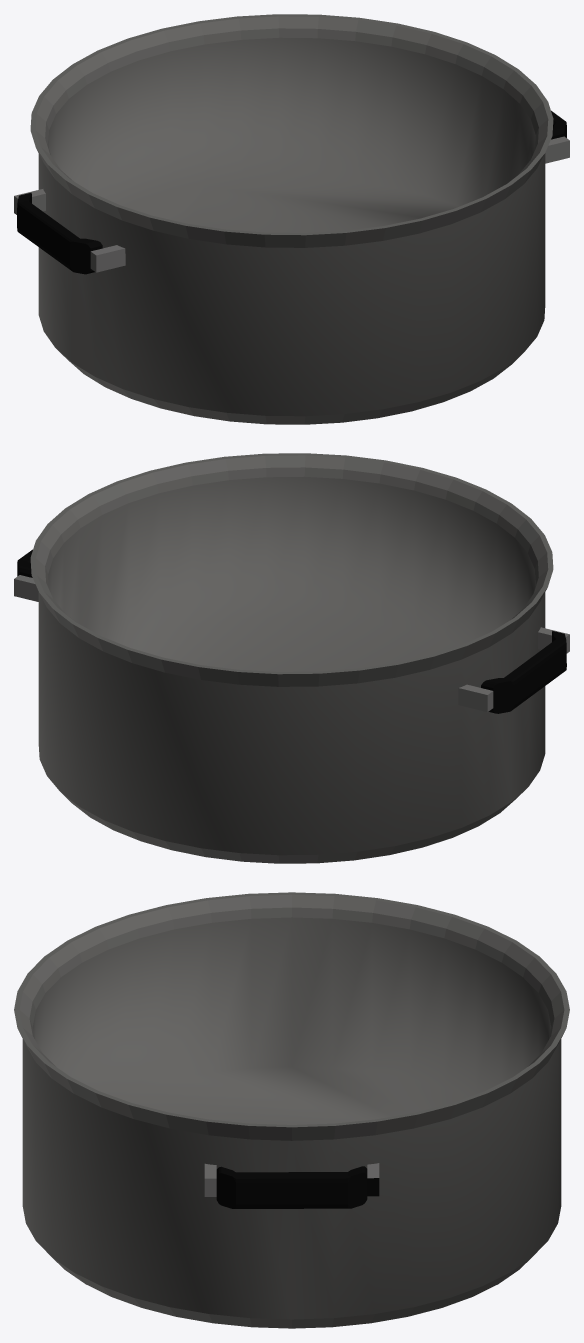
Rendered from _IGPOT.fbx.
3 views of the same model, one above another, from view 1: azimuth 30°, elevation 25°; view 2: azimuth 150°, elevation 25°; view 3: azimuth 270°, elevation 25° (orthographic). The views are drawn at different scales.
Visible parts, largest first — view 1: Cube.164; view 2: Cube.164; view 3: Cube.164.
Boxes of the visible parts, x1=… form: Cube.164: x1=14, y1=14, x2=569, y2=424; Cube.164: x1=14, y1=453, x2=569, y2=863; Cube.164: x1=14, y1=892, x2=569, y2=1328.
Bounding box in the file's own units: 27.44 × 10.48 × 25.04.
